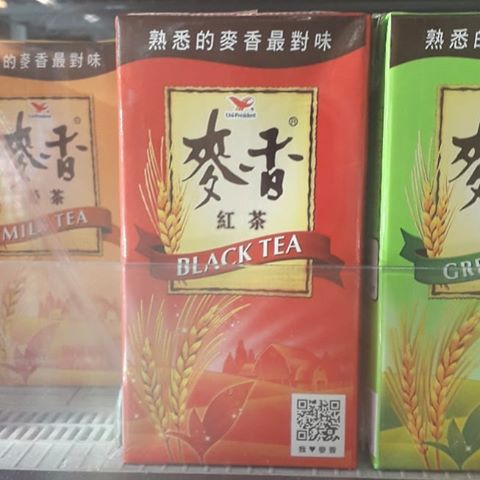milk tea: (1, 41, 118, 388)
